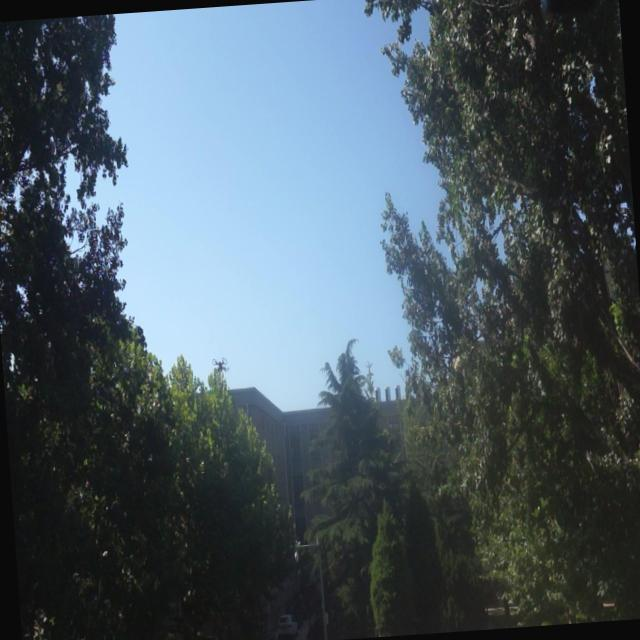drone: (209, 353, 231, 378)
